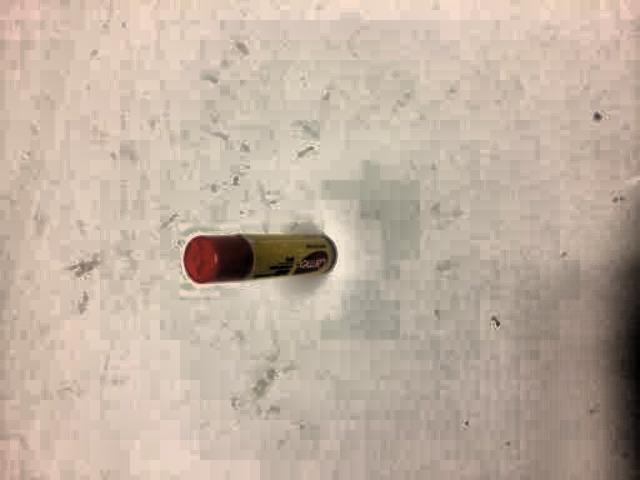Almennt: (158, 211, 366, 295)
